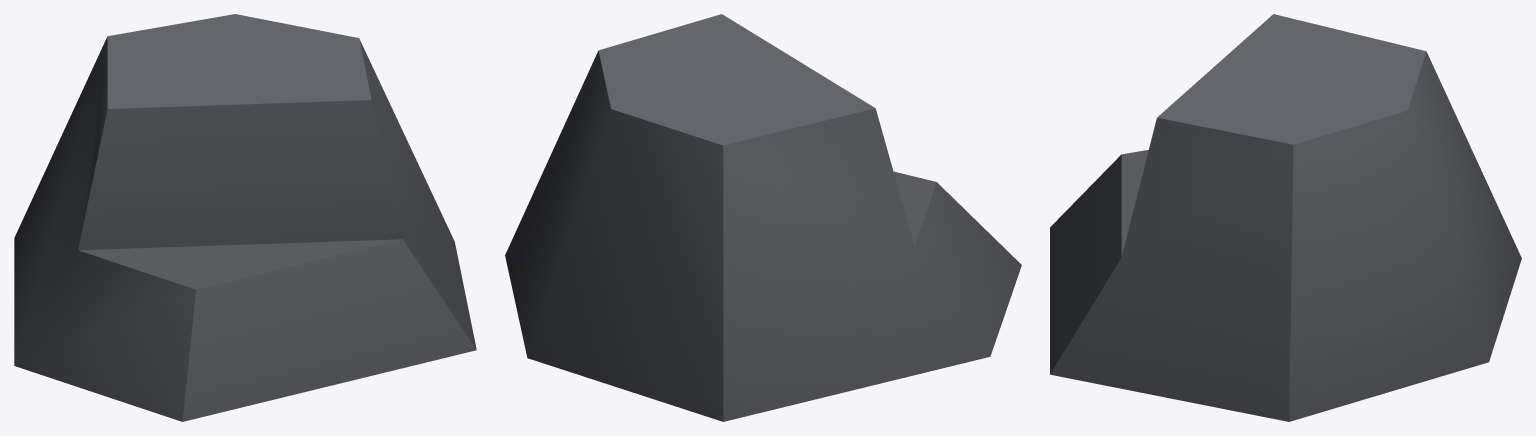
The model's file is rock_B-BC5M0v8F.glb.
3 renders of one model, left to right at view 1: azimuth 30°, elevation 25°; view 2: azimuth 150°, elevation 25°; view 3: azimuth 270°, elevation 25°, orthographic. The views are drawn at different scales.
Visible parts, largest first — view 1: rock_single_B; view 2: rock_single_B; view 3: rock_single_B.
Boxes of the visible parts, box(x1,y1,x2,y2) form: rock_single_B: box(14, 14, 476, 421); rock_single_B: box(505, 14, 1021, 421); rock_single_B: box(1050, 14, 1521, 421).
Size of the model in its own units: 1.42 by 0.6662 by 1.24.
Materials: 1 (1 with a texture image).
